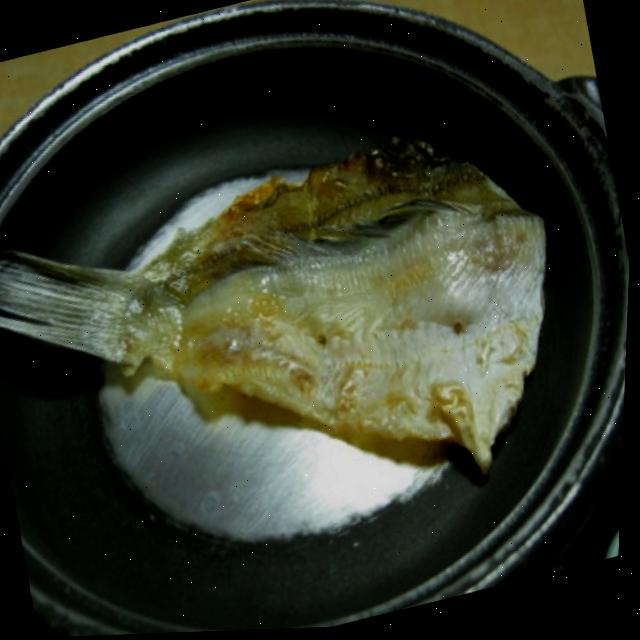熟制海鲜: (0, 73, 606, 553)
